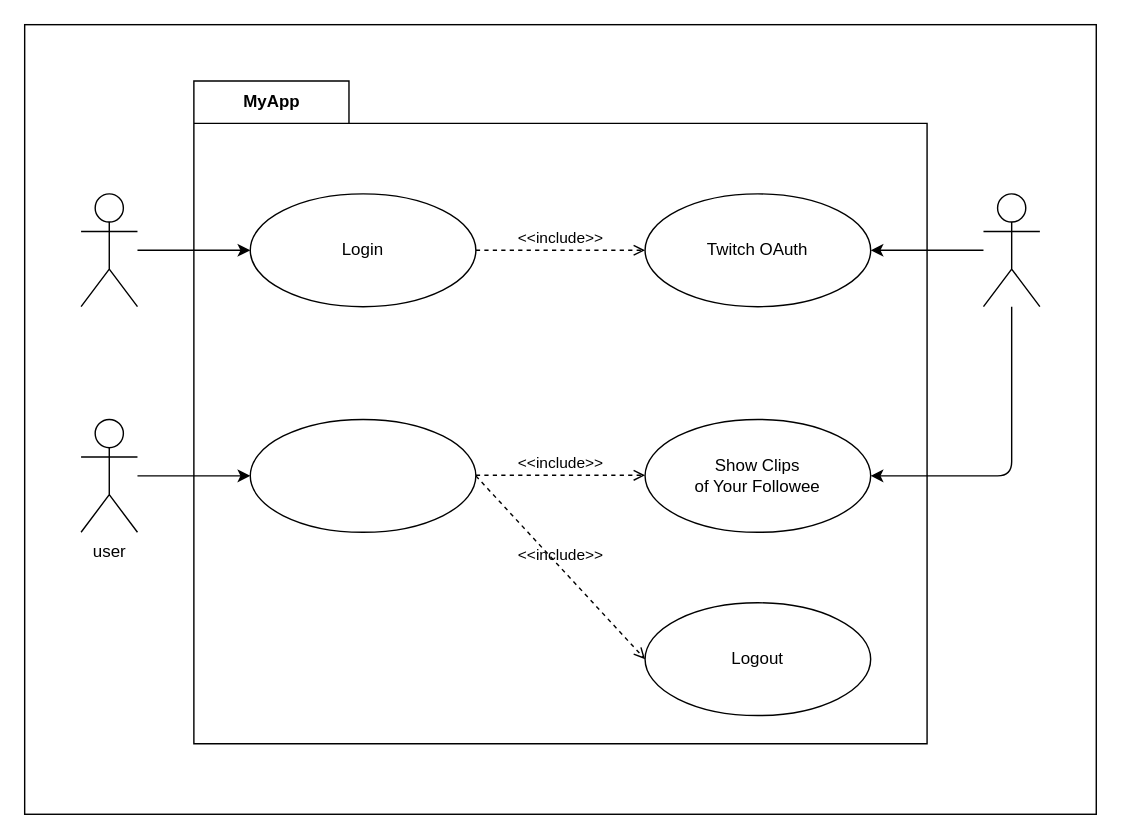
This 1121x839 diagram has some shape labels left out. Each missing label, with the centre of its shape:
"ClipChecker" goes at point 362,475.
"guest" goes at point 108,249.
"Twitch" goes at point 1011,249.
